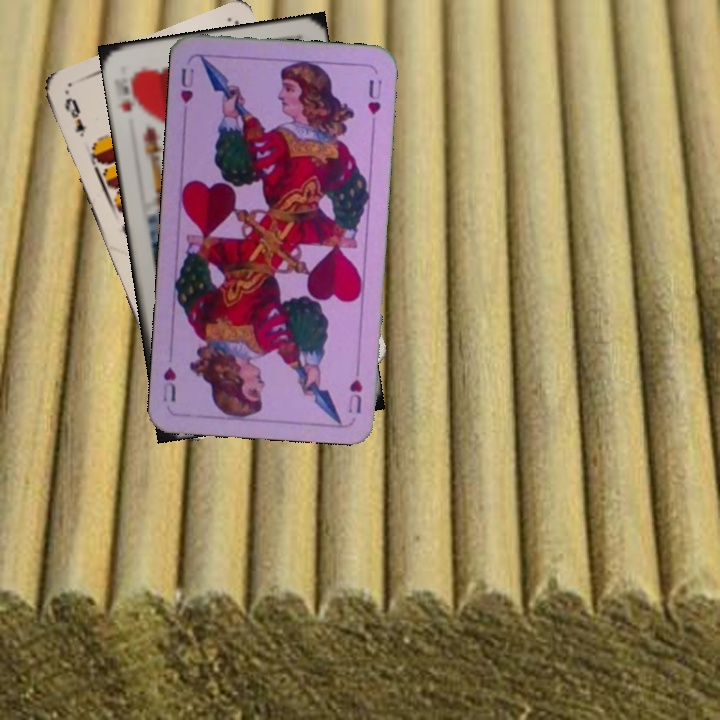E9: (60, 93, 89, 140)
HK: (116, 68, 142, 114)
HU: (344, 359, 365, 416), (176, 64, 197, 106)
